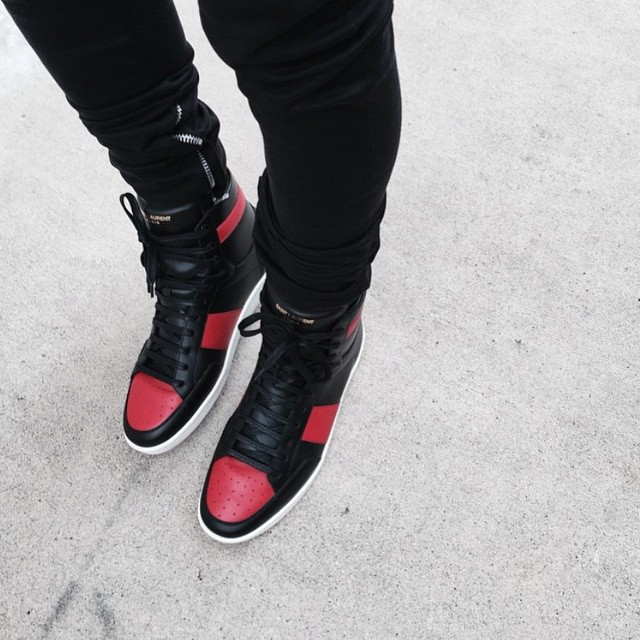sneaker: (168, 265, 380, 560), (105, 145, 266, 477)
